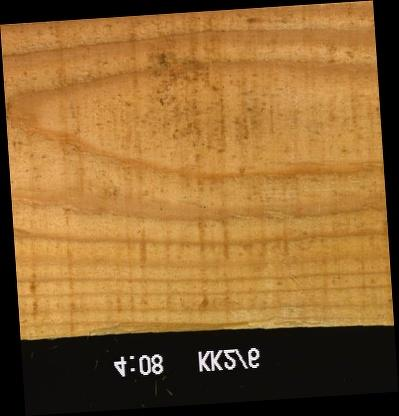wave: (50, 321, 274, 337)
